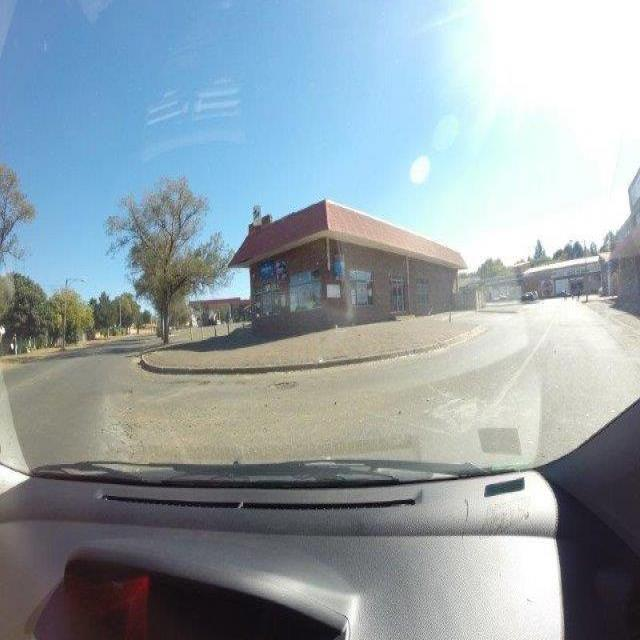jalan retak: (416, 380, 487, 444), (141, 369, 214, 391), (200, 374, 255, 392), (125, 353, 142, 375)
lubang: (97, 385, 143, 460), (263, 375, 302, 396)
